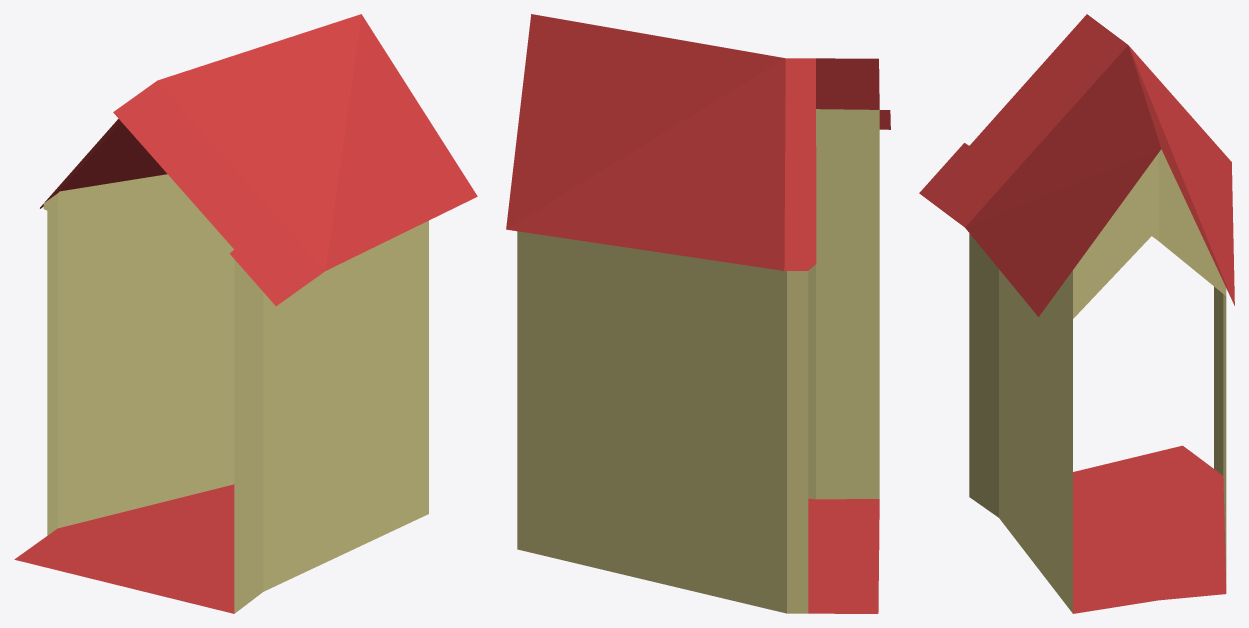
3 renders of one model, left to right at view 1: azimuth 30°, elevation 25°; view 2: azimuth 150°, elevation 25°; view 3: azimuth 270°, elevation 25°, orthographic. The views are drawn at different scales.
Size of the model in its own units: 12.83 by 9.36 by 14.86.
